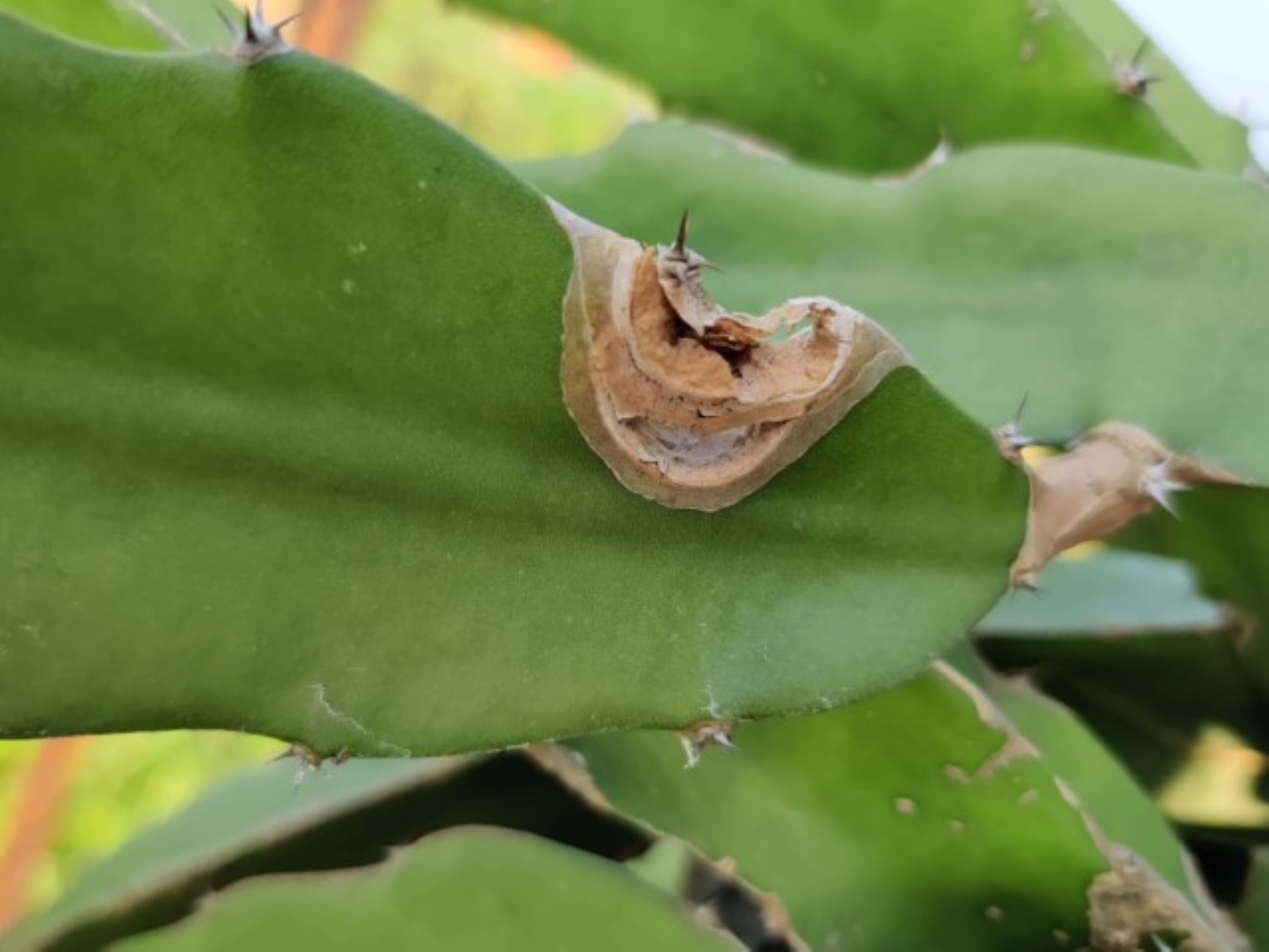stemcanker: (540, 201, 911, 514)
